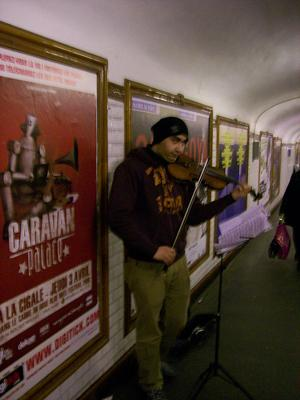person: (108, 117, 254, 398)
